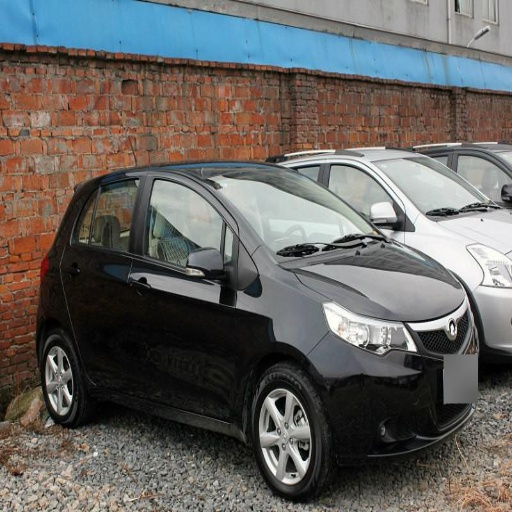front_bumper: (313, 298, 481, 460)
front_right_door: (133, 174, 244, 419)
front_right_light: (324, 303, 414, 353)
